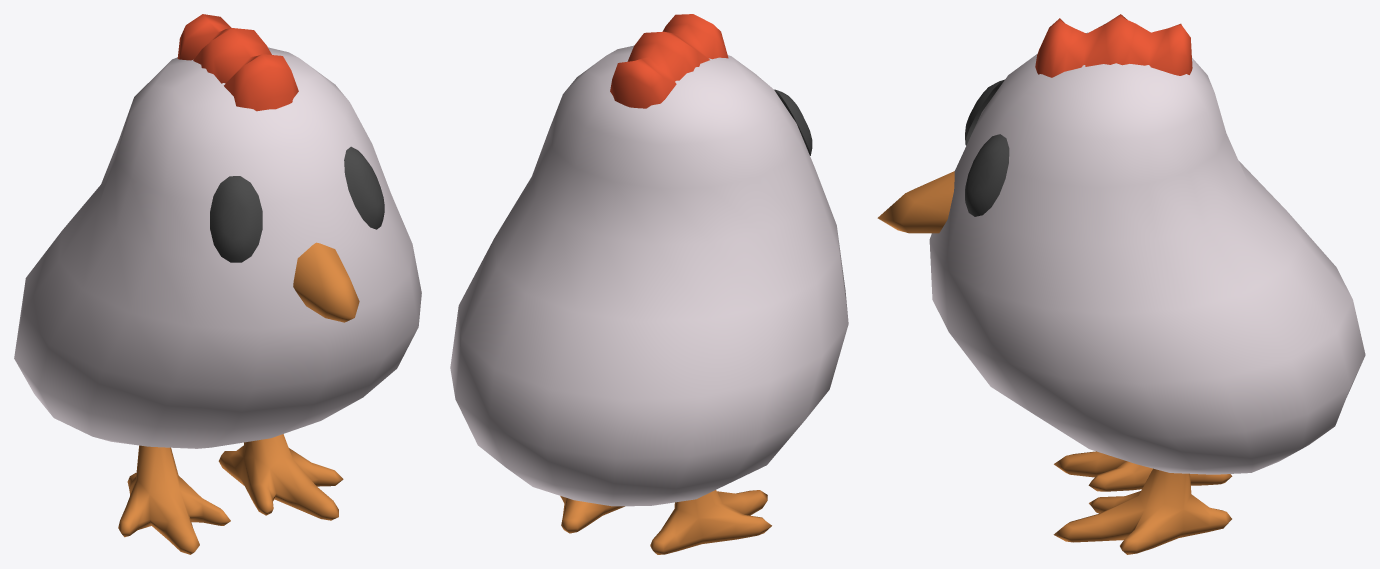
The model's file is Chicken 1.fbx.
The picture shows the model from 3 angles, left to right: view 1: azimuth 30°, elevation 25°; view 2: azimuth 150°, elevation 25°; view 3: azimuth 270°, elevation 25°; orthographic projection. The views are drawn at different scales.
Parts seen in each view (by area): view 1: Chicken; view 2: Chicken; view 3: Chicken.
Part boxes in pixels (x1=…): Chicken: x1=14, y1=14, x2=421, y2=554; Chicken: x1=450, y1=14, x2=848, y2=554; Chicken: x1=877, y1=14, x2=1365, y2=554.
Bounding box in the file's own units: 8.02 × 10.87 × 9.8.
